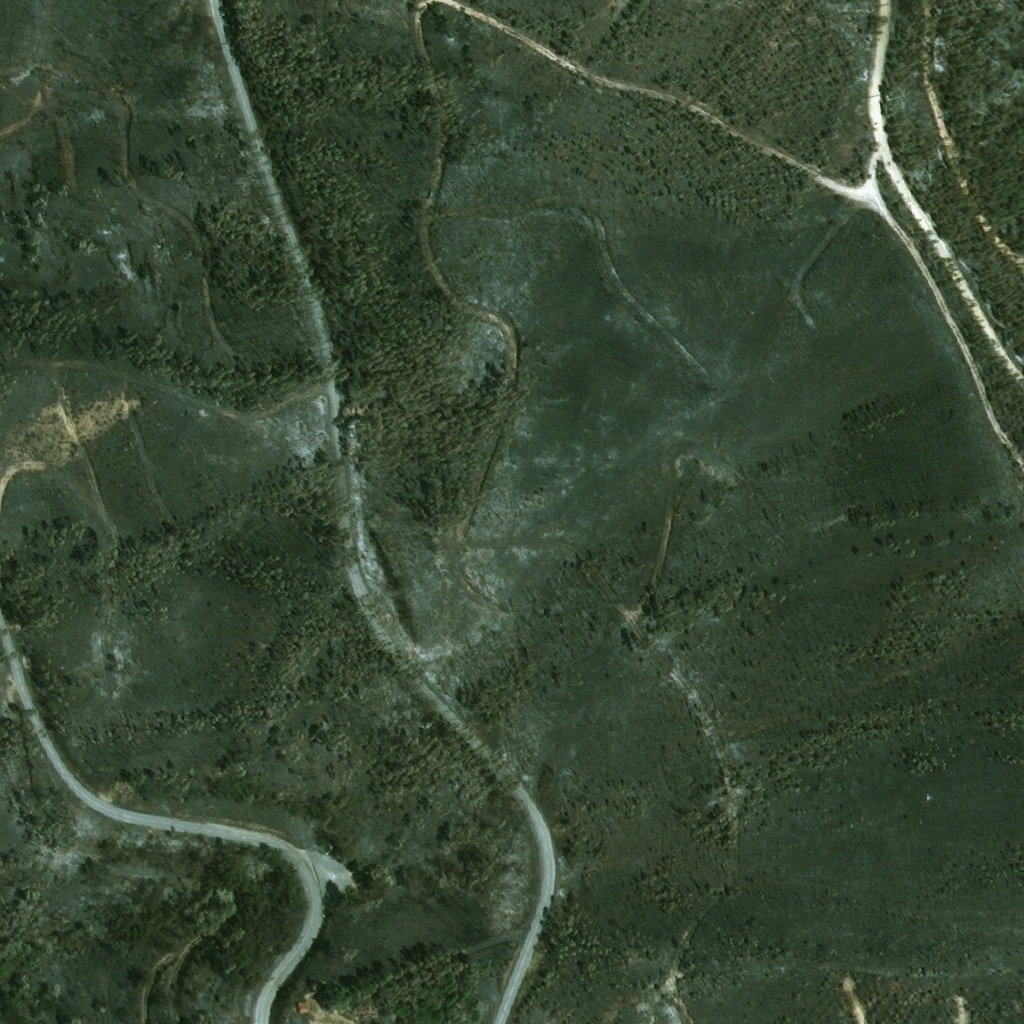0 no-damage: (297, 1003, 309, 1013)
